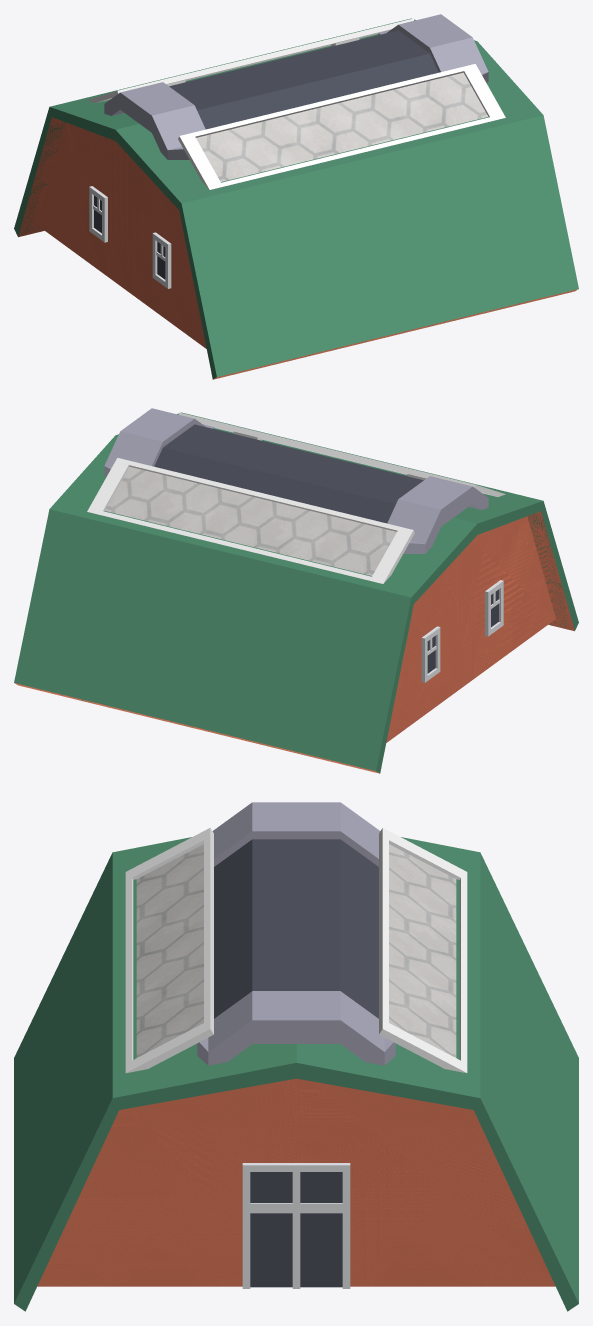
3 renders of one model, top to bottom at view 1: azimuth 30°, elevation 25°; view 2: azimuth 150°, elevation 25°; view 3: azimuth 270°, elevation 25°, orthographic. The views are drawn at different scales.
Visible parts, largest first — view 1: roof_barn_14, roof_window_21, detail_solarPanel_19, roof_barn_13, detail_solarPanel_18, window_detail_17, window_detail_16; view 2: roof_barn_13, roof_window_21, detail_solarPanel_18, roof_barn_14, detail_solarPanel_19, window_detail_16, window_detail_17; view 3: roof_barn_13, roof_barn_14, roof_window_21, detail_solarPanel_18, detail_solarPanel_19, door_wide_15.
Boxes of the visible parts, x1=… form: roof_barn_14: x1=115, y1=41, x2=578, y2=379; roof_window_21: x1=104, y1=14, x2=488, y2=159; detail_solarPanel_19: x1=178, y1=64, x2=505, y2=189; roof_barn_13: x1=14, y1=18, x2=476, y2=294; detail_solarPanel_18: x1=87, y1=18, x2=413, y2=102; window_detail_17: x1=152, y1=232, x2=171, y2=288; window_detail_16: x1=89, y1=186, x2=107, y2=242; roof_barn_13: x1=14, y1=435, x2=477, y2=773; roof_window_21: x1=104, y1=408, x2=488, y2=553; detail_solarPanel_18: x1=87, y1=458, x2=414, y2=583; roof_barn_14: x1=116, y1=412, x2=578, y2=688; detail_solarPanel_19: x1=179, y1=412, x2=505, y2=496; window_detail_16: x1=421, y1=626, x2=440, y2=682; window_detail_17: x1=485, y1=580, x2=503, y2=636; roof_barn_13: x1=296, y1=837, x2=578, y2=1311; roof_barn_14: x1=14, y1=837, x2=296, y2=1311; roof_window_21: x1=197, y1=802, x2=395, y2=1065; detail_solarPanel_18: x1=379, y1=828, x2=467, y2=1073; detail_solarPanel_19: x1=125, y1=828, x2=213, y2=1073; door_wide_15: x1=242, y1=1163, x2=350, y2=1288.
Bounding box in the file's own units: 3.3 × 1.74 × 3.2.
Materials: 17 (2 with a texture image).
